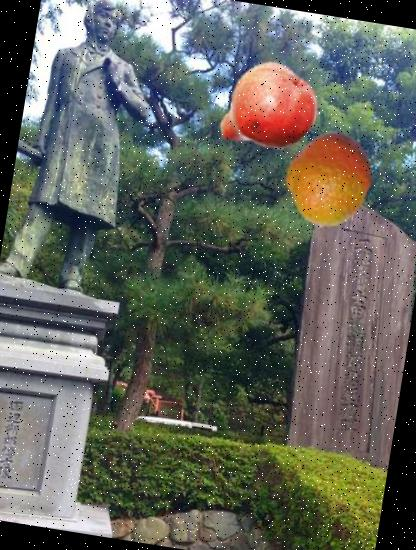Mandarine: (274, 124, 386, 236)
Pear: (206, 52, 326, 172)
